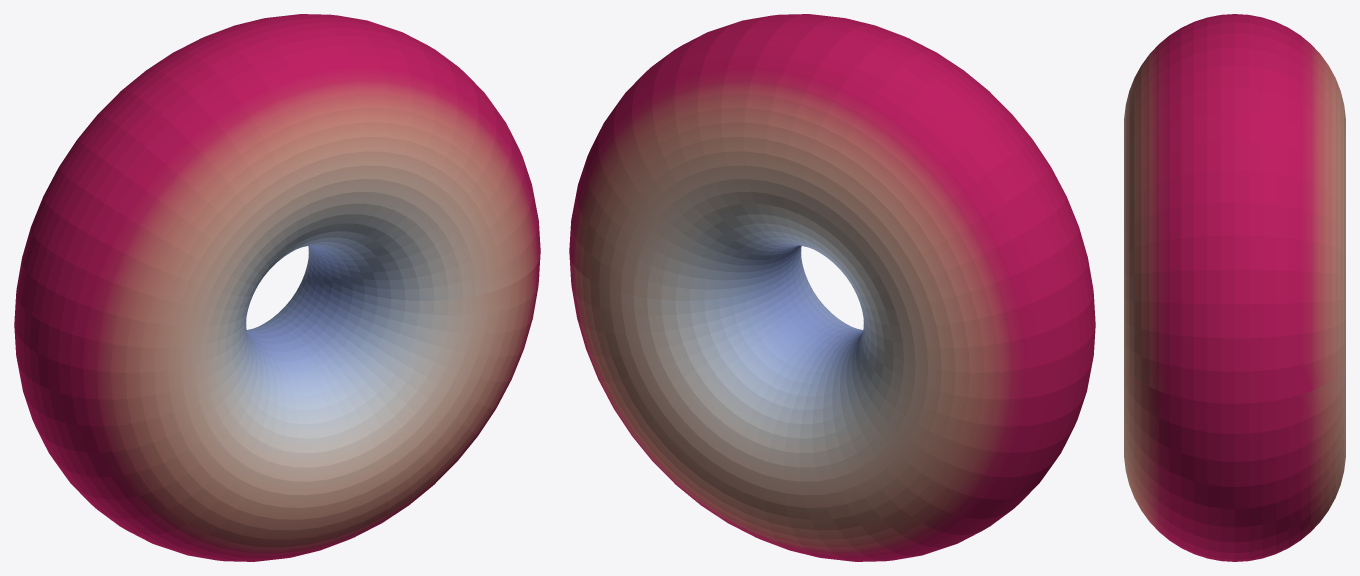
The picture shows the model from 3 angles, left to right: view 1: azimuth 30°, elevation 25°; view 2: azimuth 150°, elevation 25°; view 3: azimuth 270°, elevation 25°; orthographic projection. The views are drawn at different scales.
Parts seen in each view (by area): view 1: world; view 2: world; view 3: world.
Boxes of the visible parts, x1=… form: world: x1=14, y1=14, x2=540, y2=561; world: x1=569, y1=14, x2=1095, y2=561; world: x1=1124, y1=14, x2=1345, y2=561.
Size of the model in its own units: 24.67 by 24.62 by 9.98.
